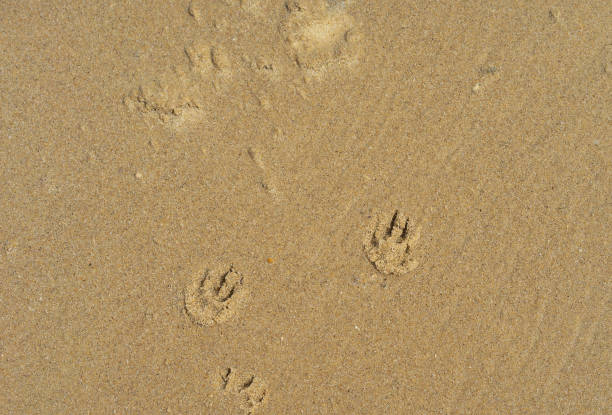animal_foot_print: (279, 0, 359, 70), (124, 73, 202, 122), (184, 266, 247, 325), (363, 210, 419, 273), (220, 368, 267, 414)
